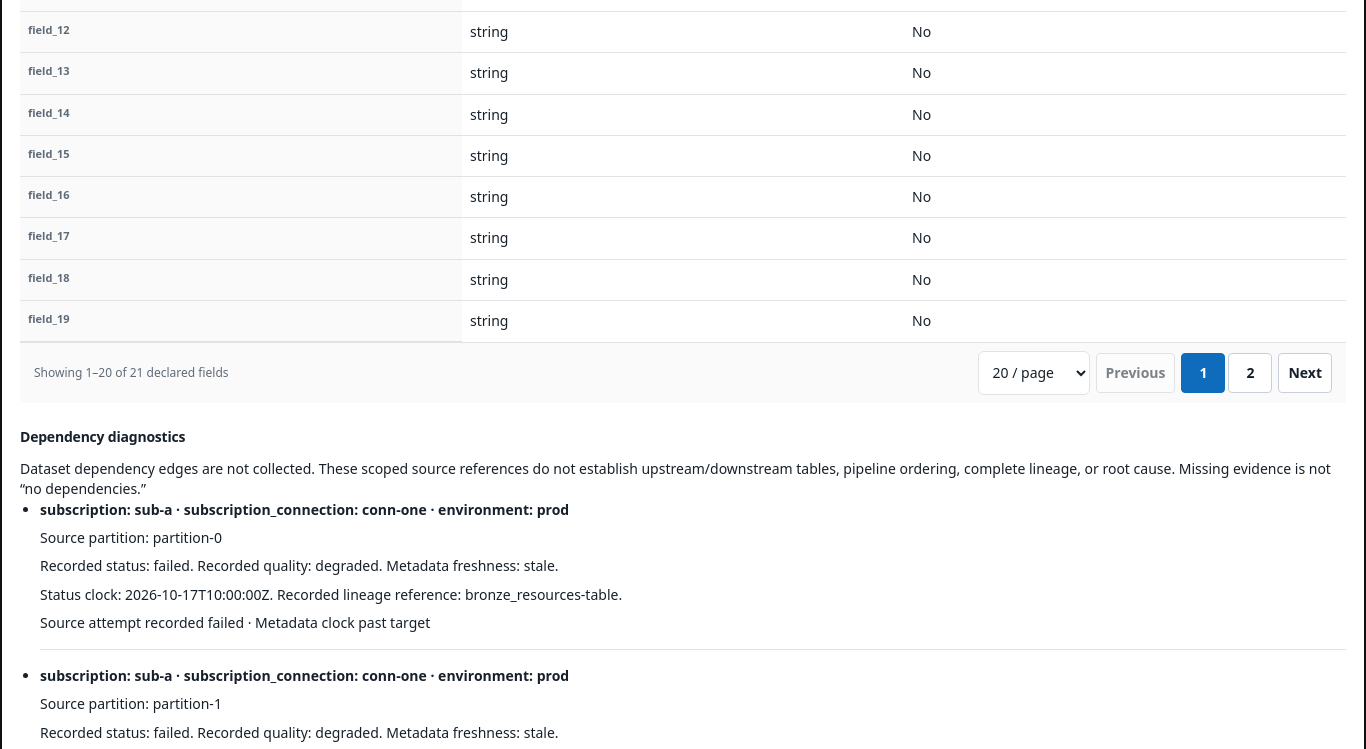
Test: Declared Fabric dataset contract › paginates fields and diagnostics independently without refetching evidence
The image size is (1366, 749).
(page scrolled)
Select "50 / page" in the dropdown named "Rows per page for declared fields" at x=1034, y=373, box [978, 351, 1090, 395]
(page scrolled)
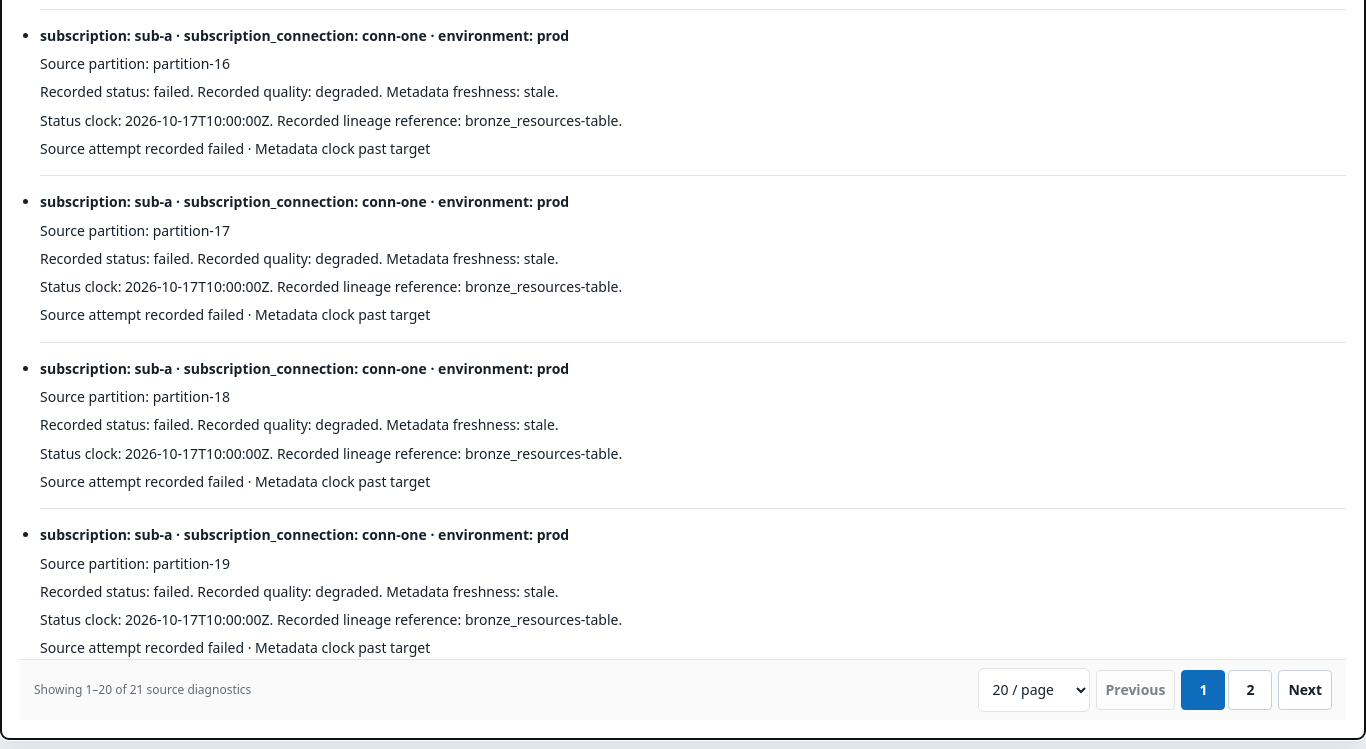
Check: the text "Source partition: partition-20" is not shown
Select "50 / page" in the dropdown named "Rows per page for source diagnostics" at x=1034, y=690, box [978, 668, 1090, 712]
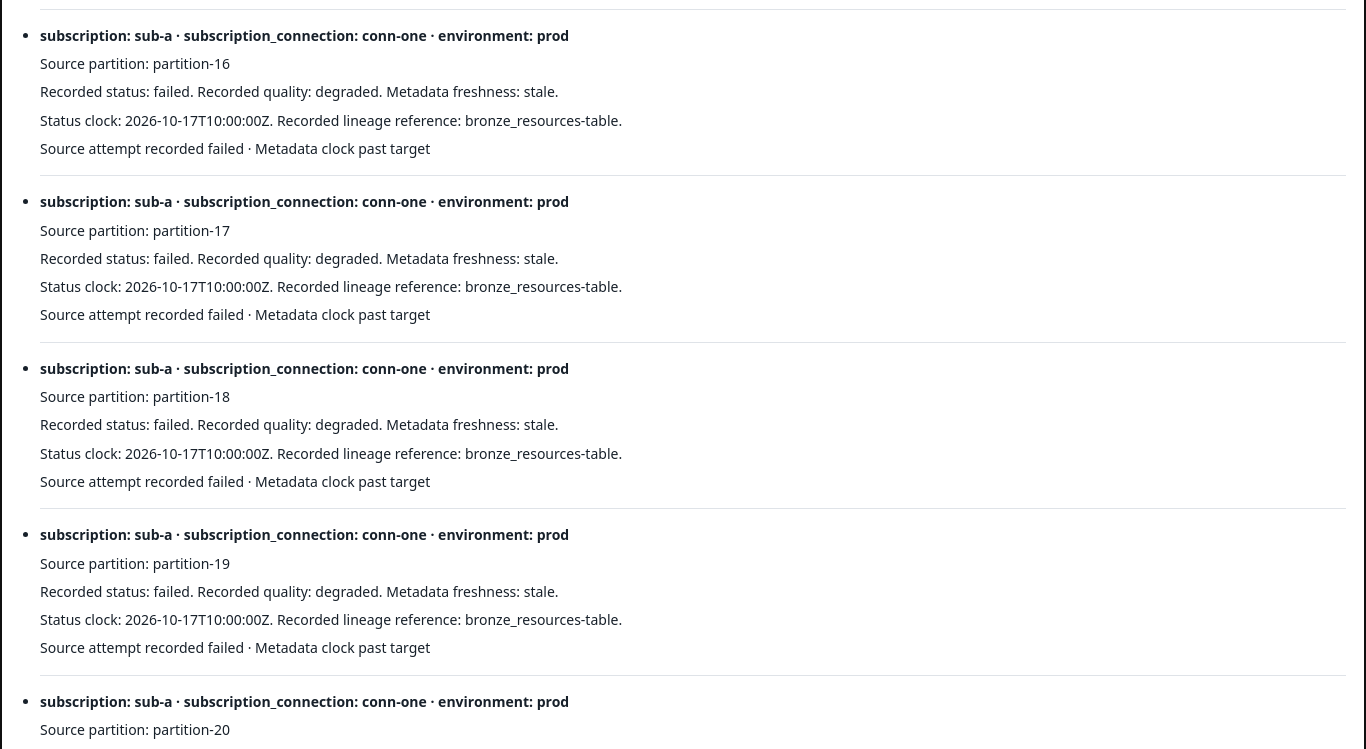
Check: the text "Source partition: partition-20" is shown, box [40, 720, 230, 739]
